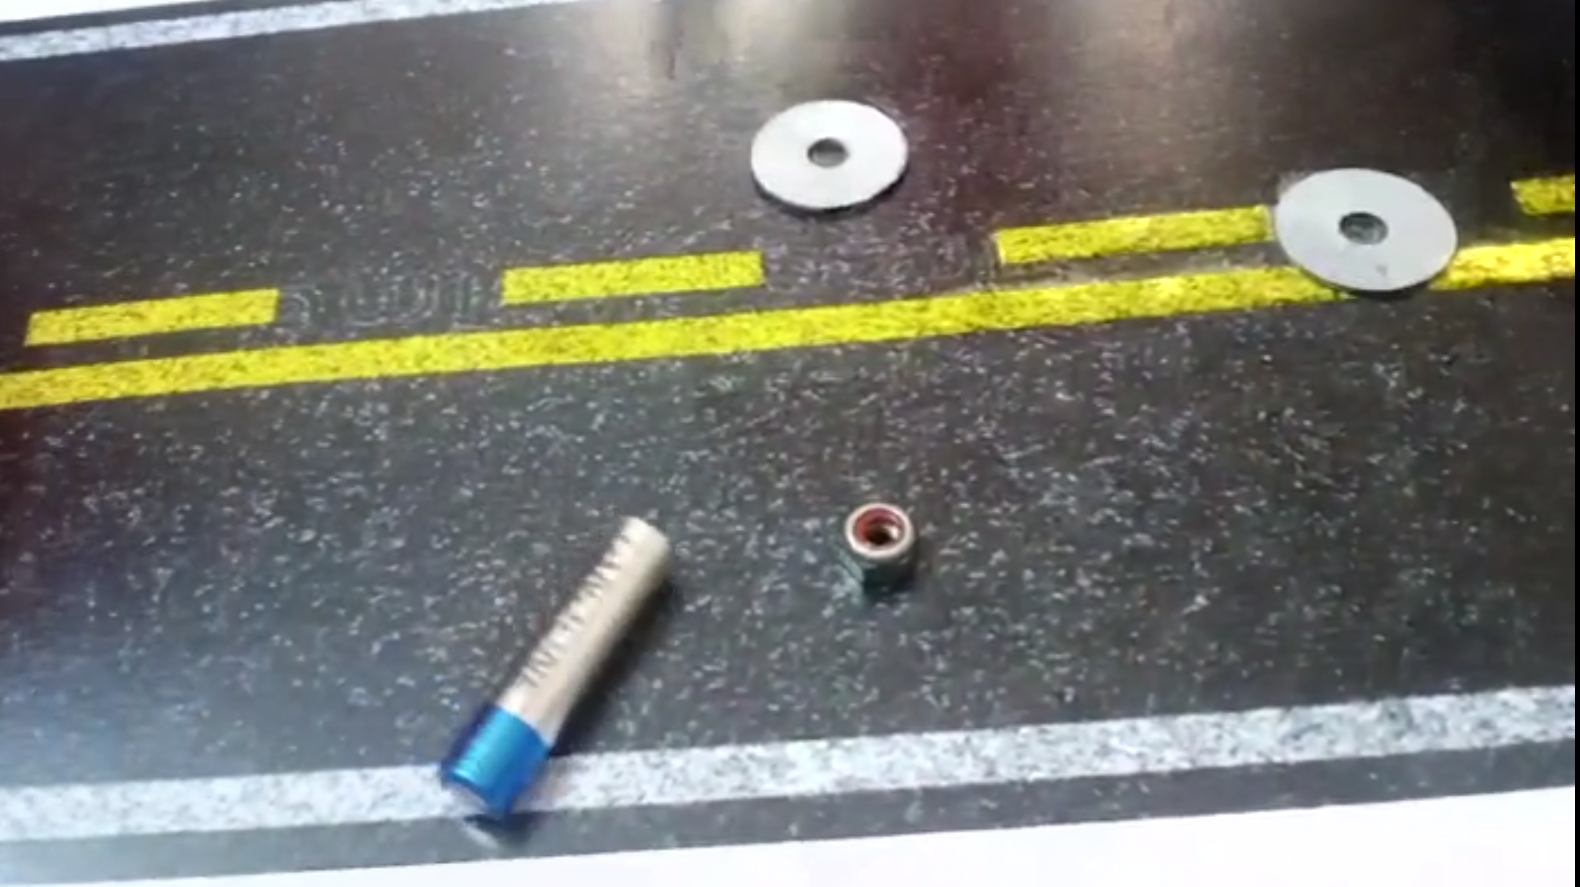metal: (418, 514, 681, 822), (1271, 164, 1458, 300), (746, 91, 918, 219), (832, 497, 923, 590)
